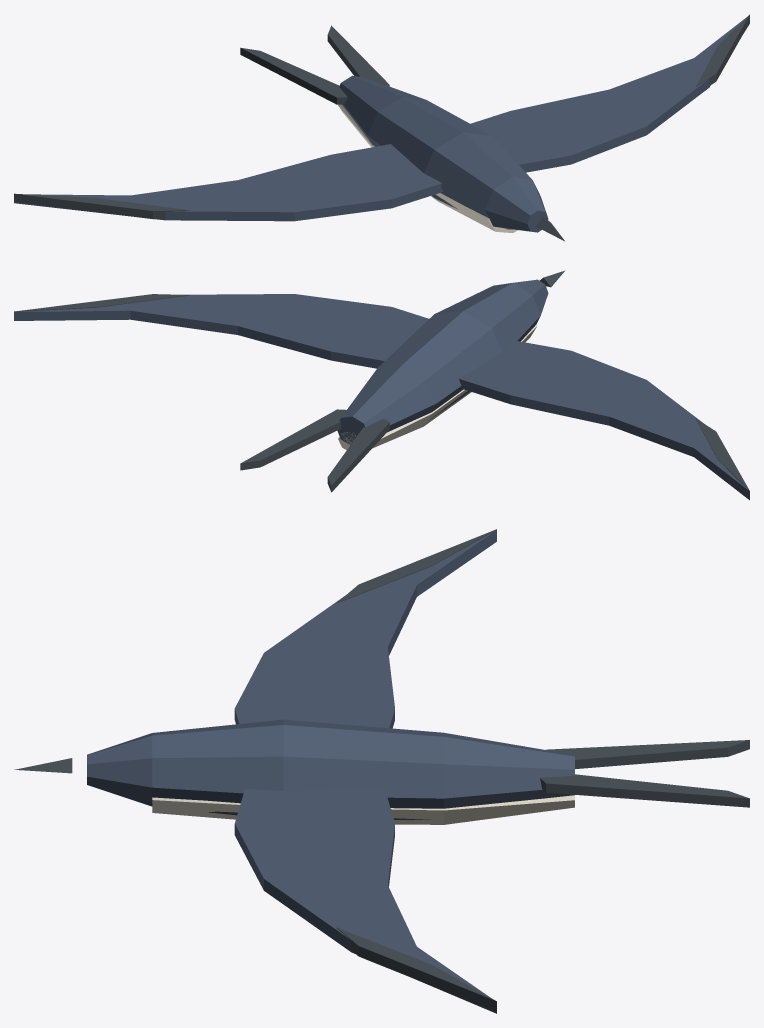
File: bird.glb
3 renders of one model, top to bottom at view 1: azimuth 30°, elevation 25°; view 2: azimuth 150°, elevation 25°; view 3: azimuth 270°, elevation 25°, orthographic. The views are drawn at different scales.
Visible parts, largest first — view 1: Wing_l, Back, Wing_r, bird_body_tips, Wing_Tip_l, Wing_Tip_r, Belly; view 2: Wing_r, Back, Wing_l, bird_body_tips, Belly, Wing_Tip_r, Wing_Tip_l; view 3: Back, Wing_r, Wing_l, bird_body_tips, Belly, Wing_Tip_r, Wing_Tip_l.
Boxes of the visible parts, bbox=[...] form: Wing_l: bbox=[14, 144, 443, 221]; Back: bbox=[339, 75, 548, 232]; Wing_r: bbox=[470, 17, 749, 172]; bird_body_tips: bbox=[240, 25, 564, 241]; Wing_Tip_l: bbox=[14, 193, 189, 219]; Wing_Tip_r: bbox=[696, 14, 749, 86]; Belly: bbox=[338, 104, 517, 232]; Wing_r: bbox=[14, 294, 428, 368]; Back: bbox=[337, 279, 548, 445]; Wing_l: bbox=[459, 340, 749, 500]; bird_body_tips: bbox=[240, 270, 565, 492]; Belly: bbox=[338, 324, 537, 449]; Wing_Tip_r: bbox=[14, 294, 189, 311]; Wing_Tip_l: bbox=[695, 418, 749, 490]; Back: bbox=[87, 719, 574, 819]; Wing_r: bbox=[234, 787, 496, 1013]; Wing_l: bbox=[234, 530, 496, 728]; bird_body_tips: bbox=[14, 740, 749, 807]; Belly: bbox=[152, 795, 574, 824]; Wing_Tip_r: bbox=[337, 927, 496, 1011]; Wing_Tip_l: bbox=[336, 529, 496, 603].
Bounding box in the file's own units: 0.1534 × 0.0143 × 0.101.
